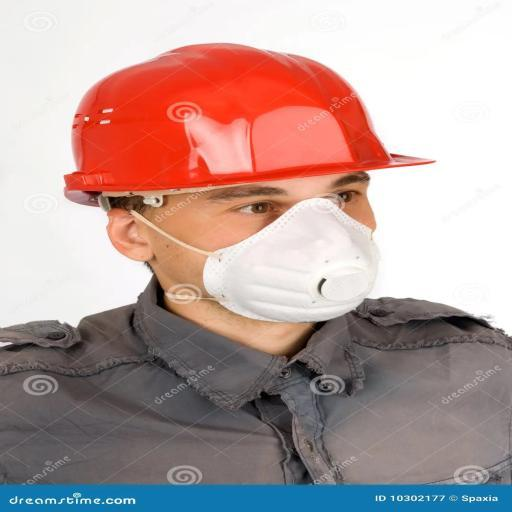mask: (194, 194, 384, 333)
